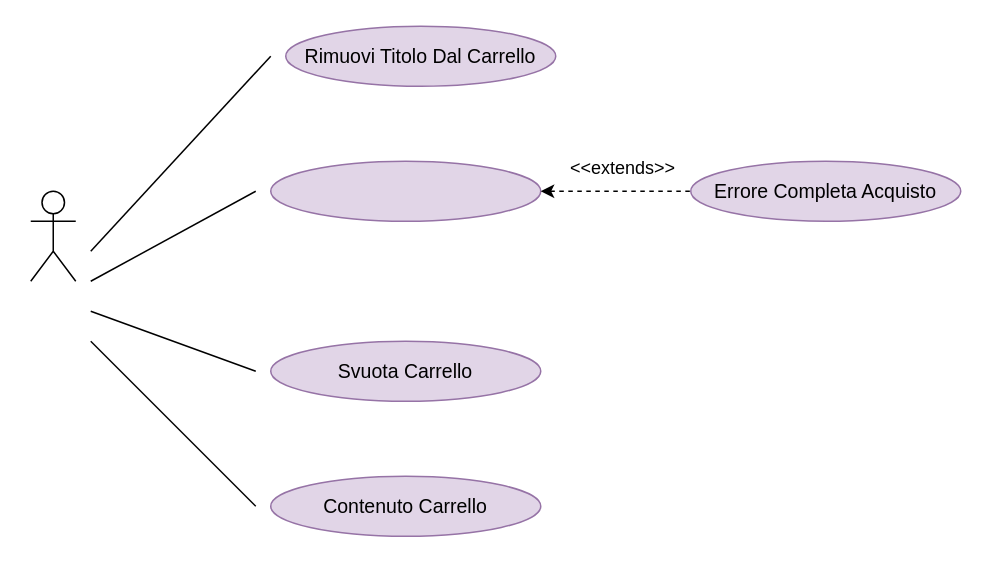
The diagram is 987 pixels wide and 563 high, and some of its shapes have lost their labels. Here are the shapes that lost their labels. From the top down, the centre of each, then its label:
At (x=405, y=190): "Completa Acquisto".
At (x=52, y=235): "Cliente".
